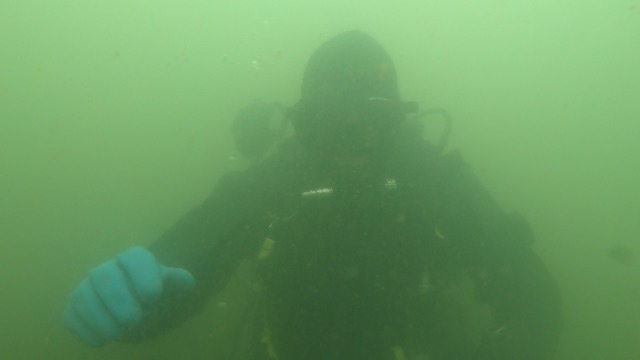Diver: (54, 24, 578, 359)
Hand: (56, 244, 193, 355)
Head: (297, 25, 420, 216)
